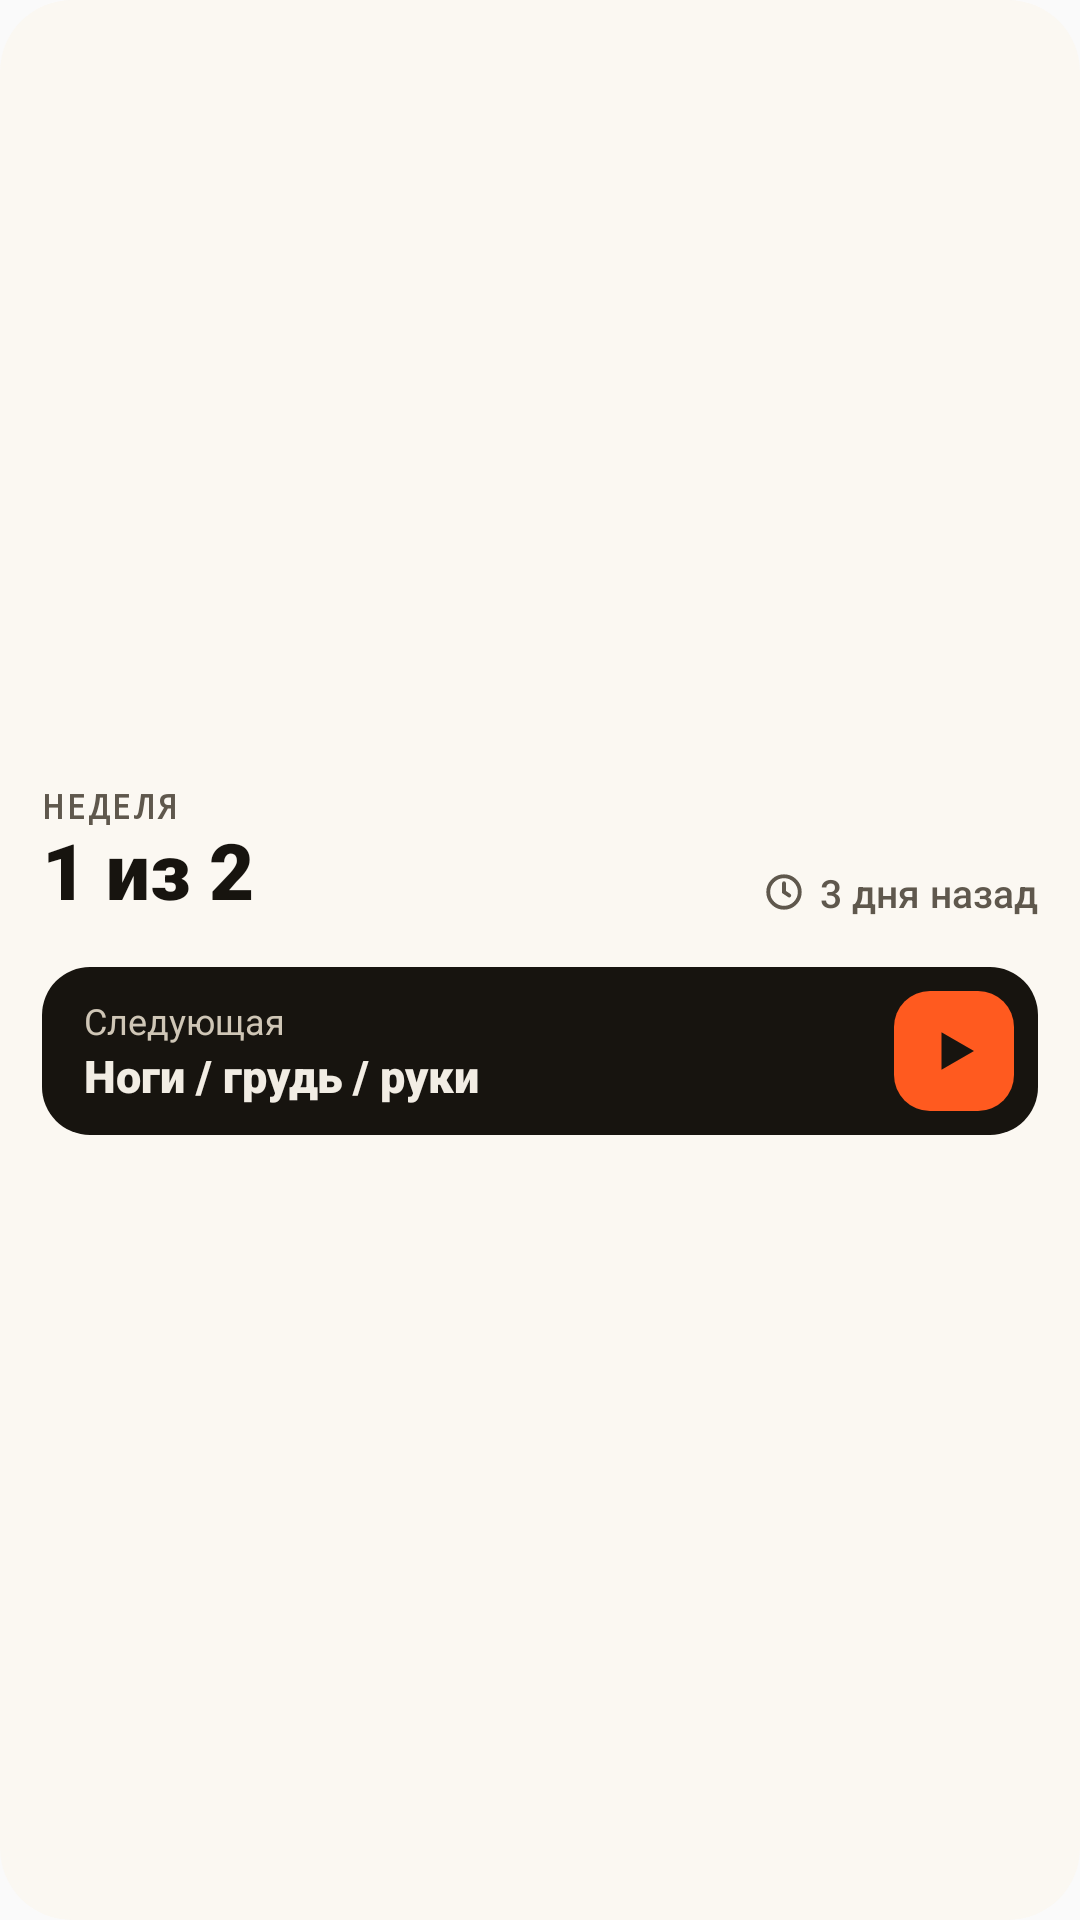

Point at icon controls on the screen. Image size 1080px×1920px, points as [x,y].
widget clock: [784,892]
